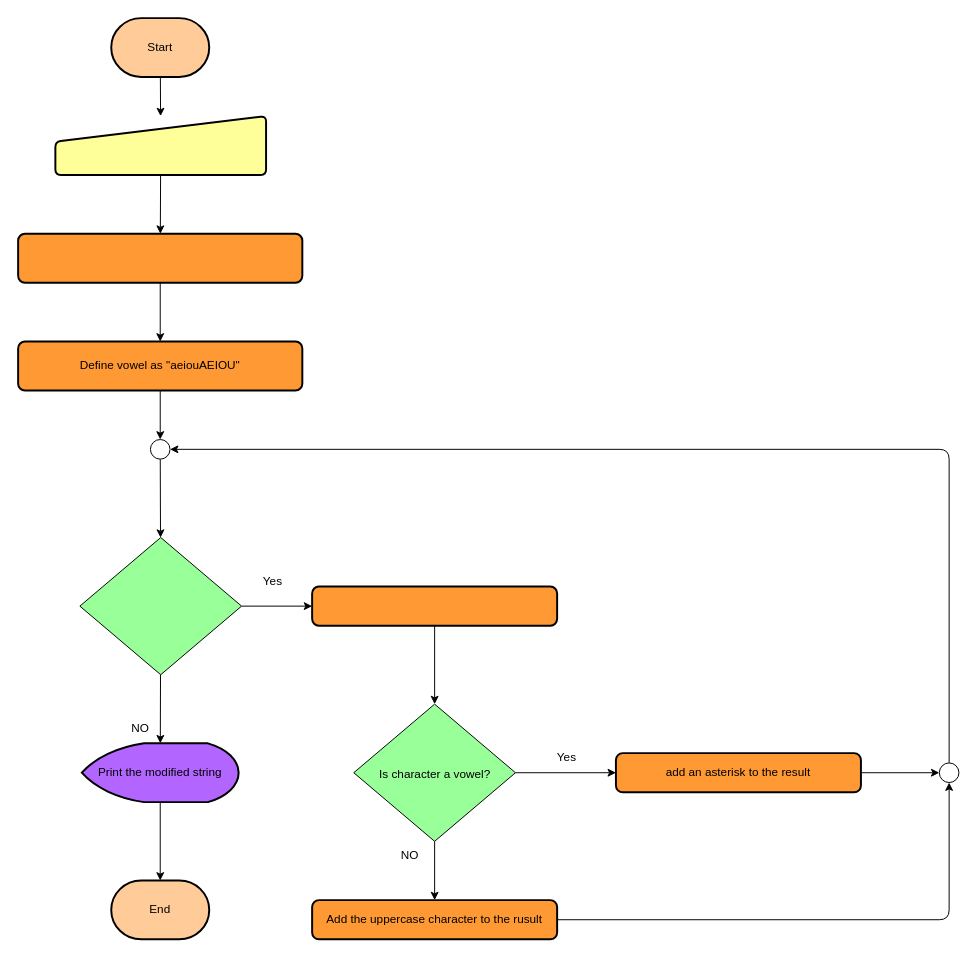
Some shapes in this 976 by 956 pixel diagram are drawn without their labels. The shapes that lost their labels are listed below. From the top down, each one's box as (x1, y1, x2, y2) in pixels, then its label:
(54, 115, 267, 175): Read input string from the user
(17, 232, 303, 283): Initializa an empty string for the result
(79, 537, 242, 675): More Characters in string
(311, 585, 558, 626): Convert character to uppercase
